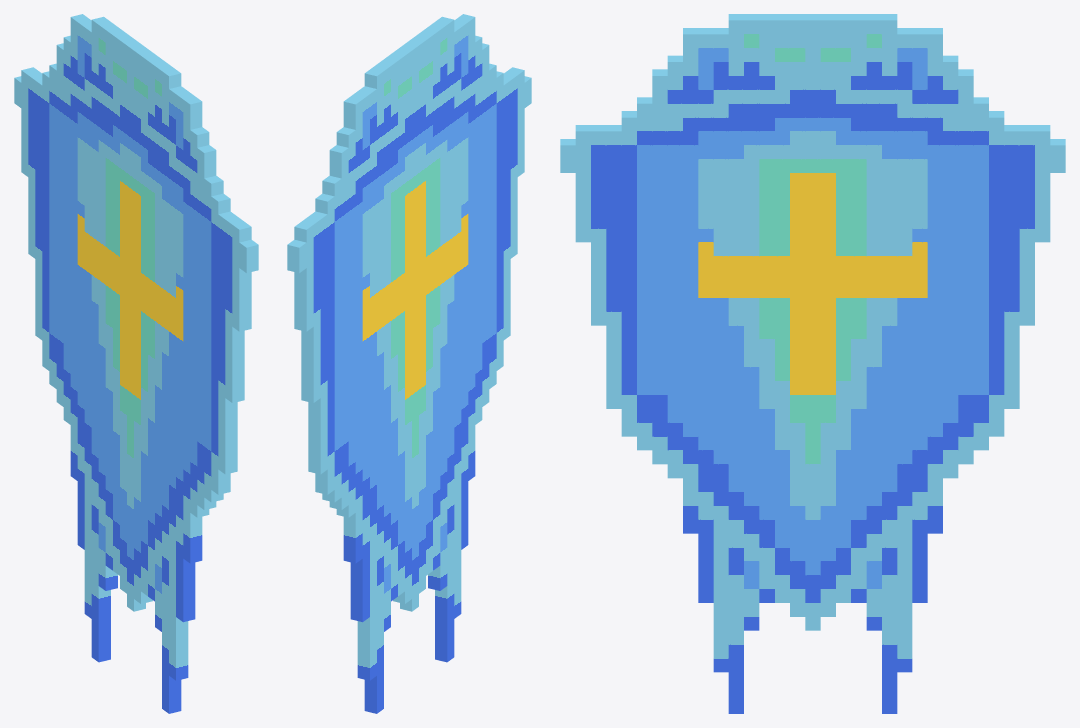
The model's file is 钴护盾.gltf.
The picture shows the model from 3 angles, left to right: view 1: azimuth 30°, elevation 25°; view 2: azimuth 150°, elevation 25°; view 3: azimuth 270°, elevation 25°; orthographic projection. The views are drawn at different scales.
Parts seen in each view (by area): view 1: Object; view 2: Object; view 3: Object.
Boxes of the visible parts, x1,y1,x2,y2 form: Object: (14,14,258,713); Object: (287,14,531,713); Object: (560,14,1065,713).
Size of the model in its own units: 1 by 50 by 33.
1 material, 1 textured.
